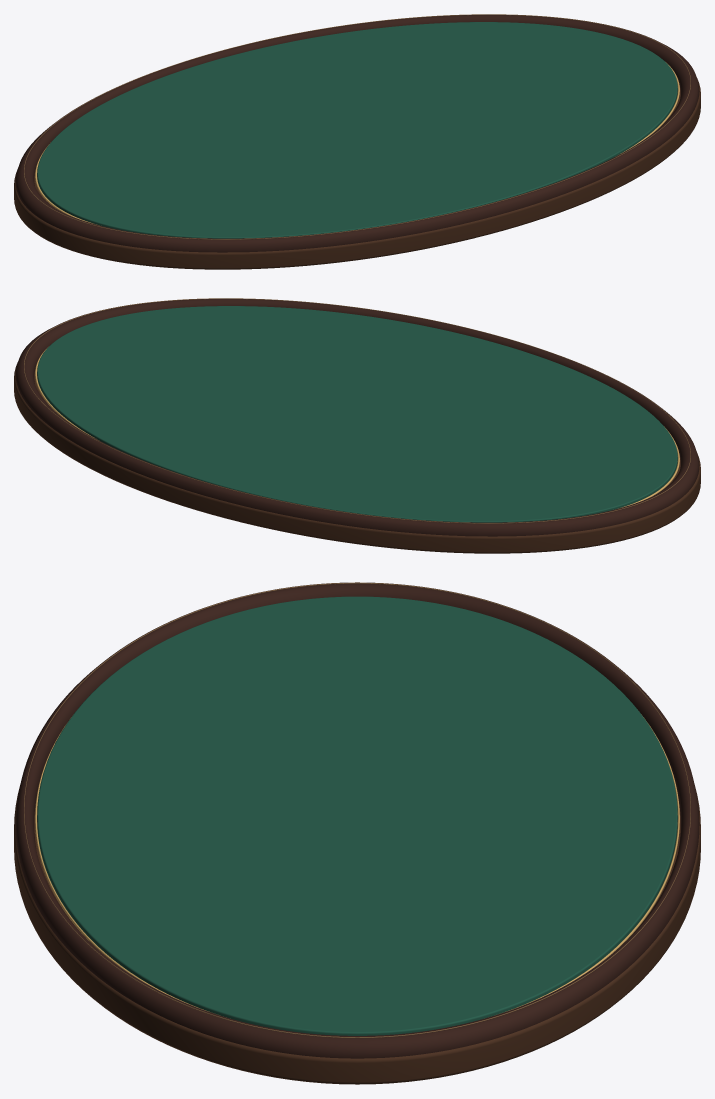
Rendered from club_table_premium.glb.
3 views of the same model, one above another, from view 1: azimuth 30°, elevation 25°; view 2: azimuth 150°, elevation 25°; view 3: azimuth 270°, elevation 25° (orthographic). The views are drawn at different scales.
Visible parts, largest first — view 1: GreenFelt, PaddedLeatherRail, WalnutBase, LeatherSeam, BrassInnerInlay; view 2: GreenFelt, PaddedLeatherRail, WalnutBase, LeatherSeam, BrassInnerInlay; view 3: GreenFelt, PaddedLeatherRail, WalnutBase, LeatherSeam, BrassInnerInlay.
Part boxes in pixels (left/top/right/bottom): GreenFelt: left=37, top=22, right=677, bottom=238; PaddedLeatherRail: left=15, top=15, right=699, bottom=252; WalnutBase: left=14, top=78, right=700, bottom=269; LeatherSeam: left=24, top=14, right=690, bottom=239; BrassInnerInlay: left=35, top=62, right=679, bottom=224; GreenFelt: left=37, top=306, right=677, bottom=522; PaddedLeatherRail: left=15, top=299, right=699, bottom=536; WalnutBase: left=14, top=362, right=700, bottom=553; LeatherSeam: left=24, top=298, right=690, bottom=523; BrassInnerInlay: left=35, top=346, right=679, bottom=508; GreenFelt: left=37, top=596, right=677, bottom=1035; PaddedLeatherRail: left=15, top=582, right=699, bottom=1058; WalnutBase: left=14, top=785, right=700, bottom=1084; LeatherSeam: left=24, top=582, right=690, bottom=1037; BrassInnerInlay: left=35, top=714, right=679, bottom=1011.
Bounding box in the file's own units: 9.5 × 0.3948 × 5.89.
